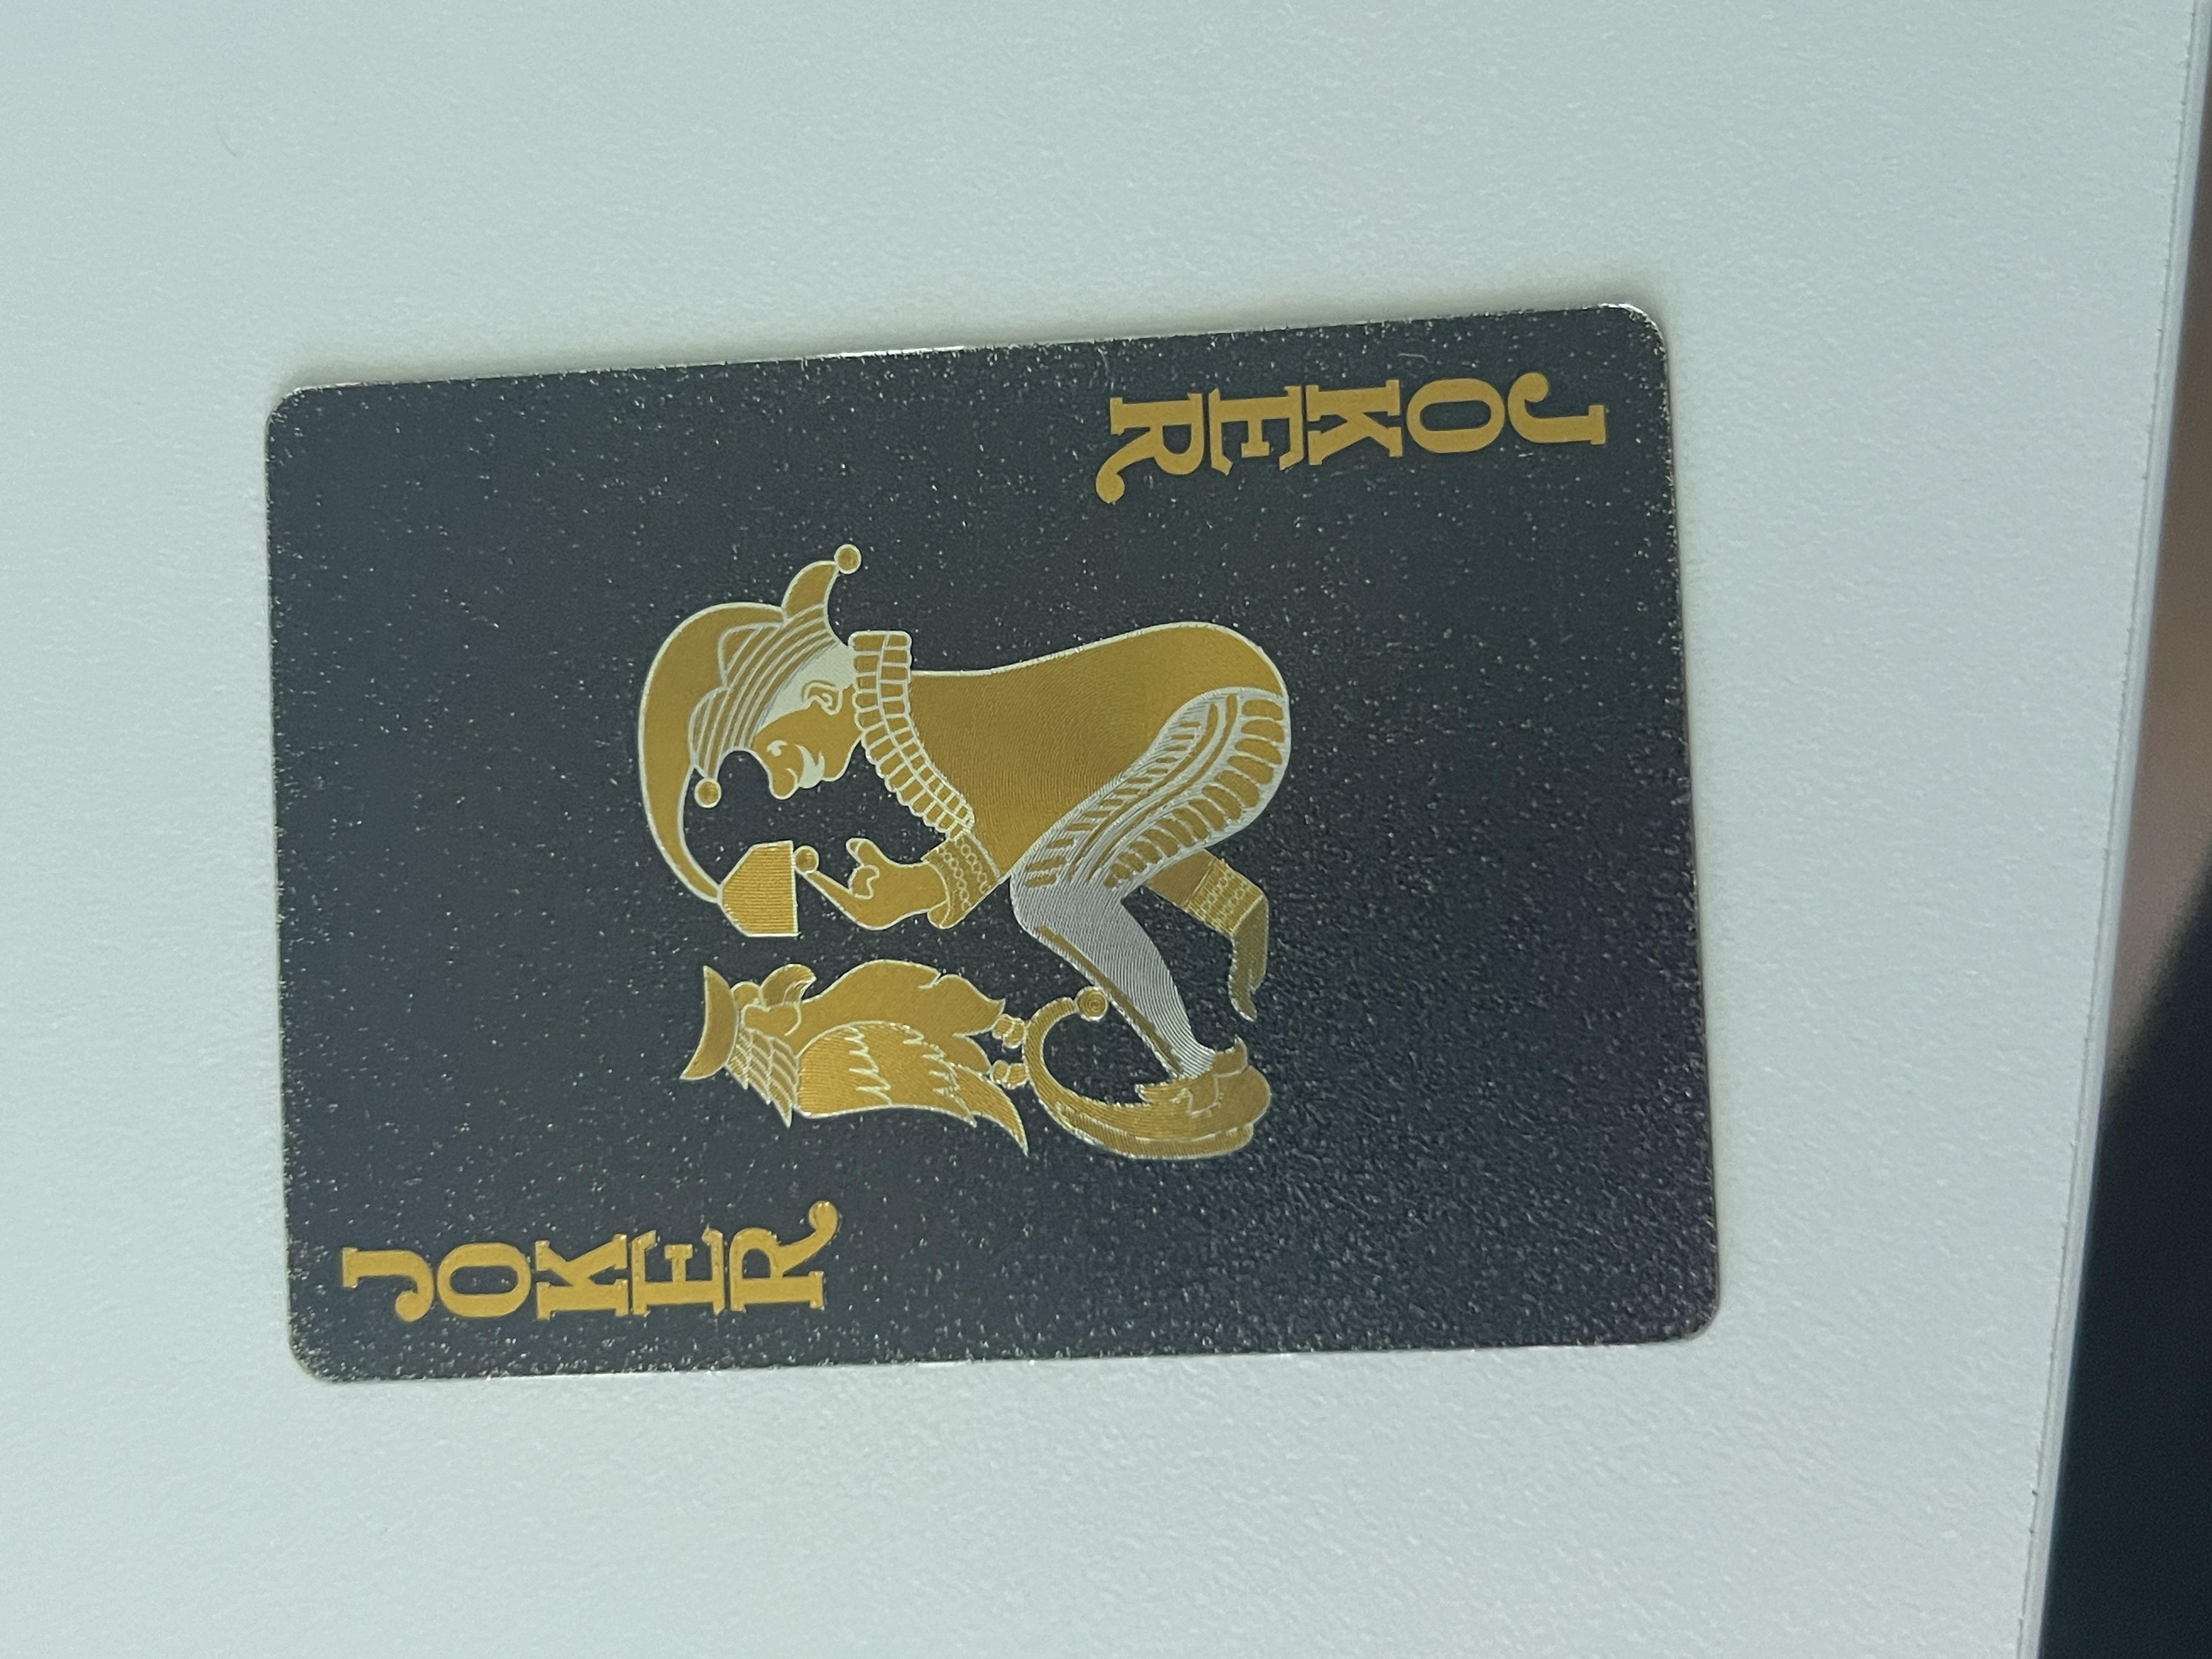RED JOKER: (1510, 812, 1759, 1209), (425, 242, 636, 640)
